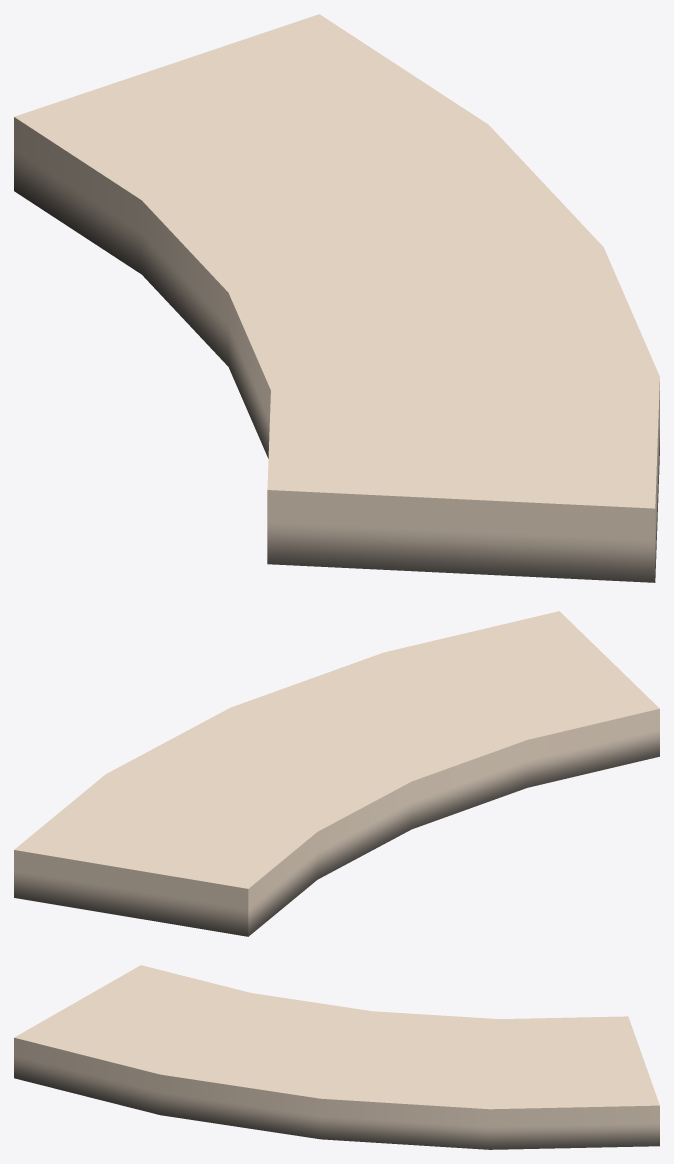
3 views of the same model, one above another, from view 1: azimuth 30°, elevation 25°; view 2: azimuth 150°, elevation 25°; view 3: azimuth 270°, elevation 25° (orthographic). The views are drawn at different scales.
Parts seen in each view (by area): view 1: Base03.001; view 2: Base03.001; view 3: Base03.001.
Boxes of the visible parts, <box> form: Base03.001: <box>14,14,659,582</box>; Base03.001: <box>14,611,659,936</box>; Base03.001: <box>14,965,659,1149</box>.
Size of what is drawn, in the model's own units: 13.93 by 1.83 by 26.39.
Materials: 1 (1 with a texture image).
